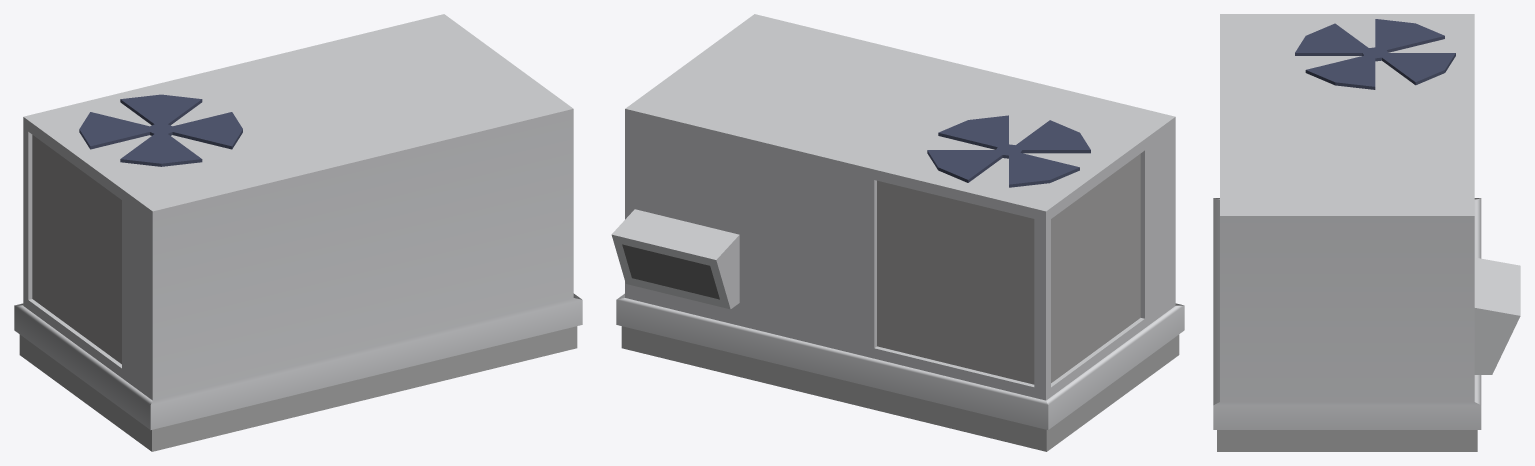
The picture shows the model from 3 angles, left to right: view 1: azimuth 30°, elevation 25°; view 2: azimuth 150°, elevation 25°; view 3: azimuth 270°, elevation 25°; orthographic projection.
Parts seen in each view (by area): view 1: AC_01; view 2: AC_01; view 3: AC_01.
Part boxes in pixels (box(x1,y1,x2,y2)): AC_01: box(14, 14, 582, 451); AC_01: box(611, 14, 1184, 451); AC_01: box(1213, 14, 1520, 451).
Bounding box in the file's own units: 207 × 111 × 130.
